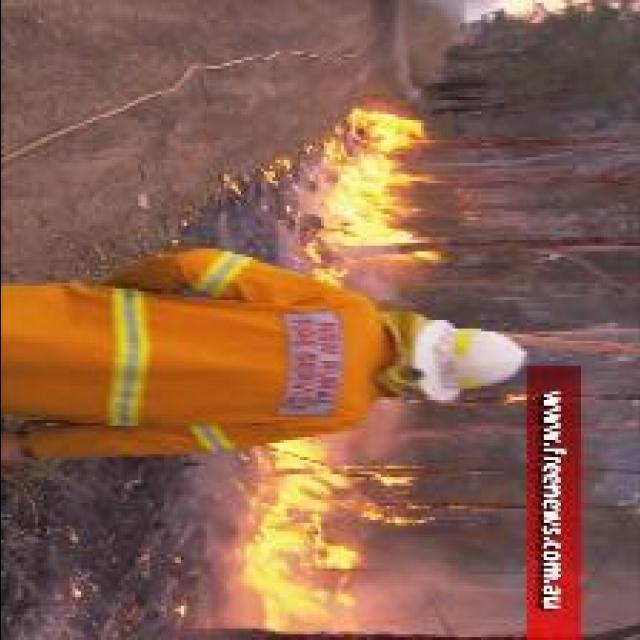Fire: (242, 443, 436, 631), (316, 108, 444, 282)
